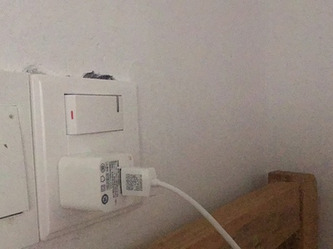switch: (62, 84, 132, 139)
